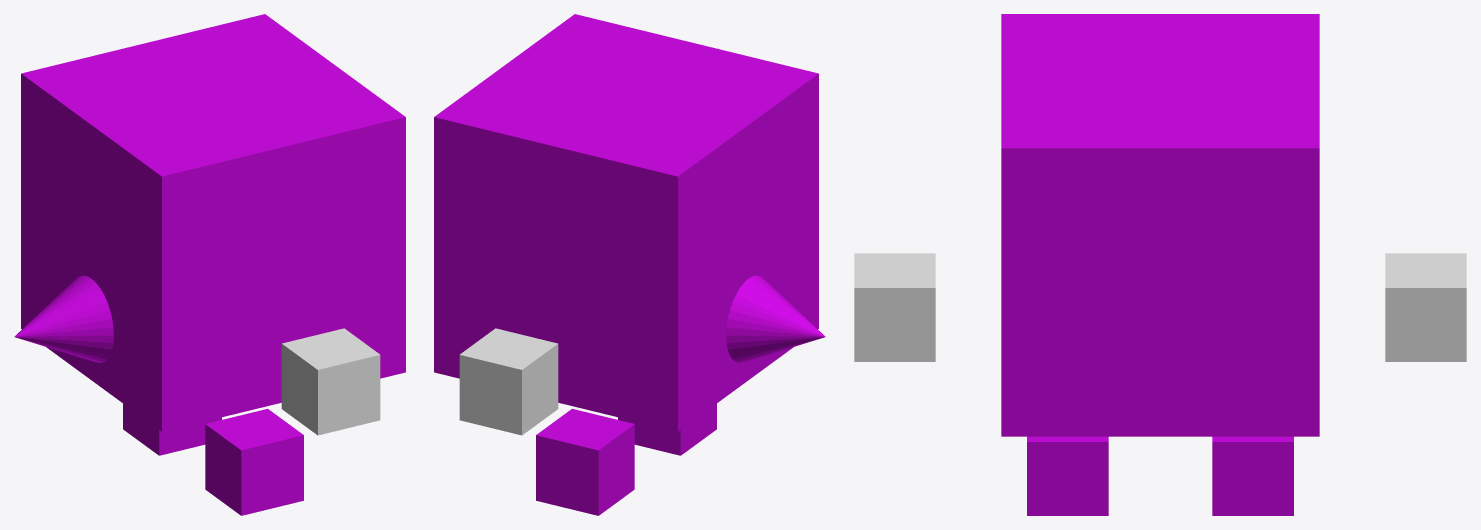
The model's file is player.fbx.
3 views of the same model, side by side, from view 1: azimuth 30°, elevation 25°; view 2: azimuth 150°, elevation 25°; view 3: azimuth 270°, elevation 25° (orthographic). The views are drawn at different scales.
Parts seen in each view (by area): view 1: 立方体, 立方体.001, 立方体.002, 円錐; view 2: 立方体, 立方体.001, 立方体.002, 円錐; view 3: 立方体, 立方体.002, 立方体.001.
Boxes of the visible parts, x1=… form: 立方体: x1=21, y1=14, x2=405, y2=431; 立方体.001: x1=123, y1=403, x2=303, y2=515; 立方体.002: x1=281, y1=328, x2=380, y2=435; 円錐: x1=14, y1=275, x2=113, y2=362; 立方体: x1=434, y1=14, x2=818, y2=431; 立方体.001: x1=536, y1=403, x2=716, y2=515; 立方体.002: x1=459, y1=328, x2=558, y2=435; 円錐: x1=726, y1=275, x2=825, y2=362; 立方体: x1=1001, y1=14, x2=1319, y2=436; 立方体.002: x1=854, y1=253, x2=1466, y2=361; 立方体.001: x1=1027, y1=436, x2=1293, y2=515.
Bounding box in the file's own units: 5.08 × 3.82 × 3.48.
